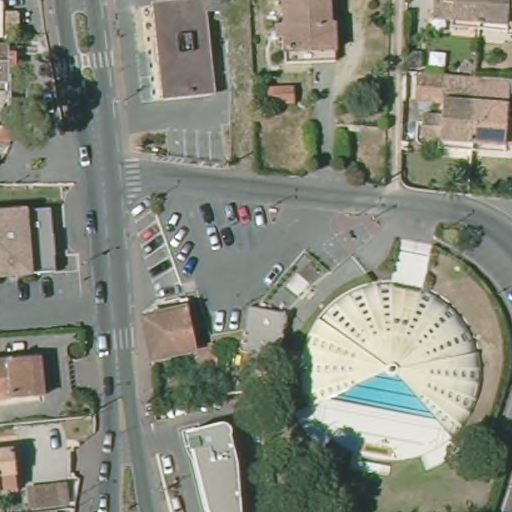pool: (298, 287, 497, 431)
